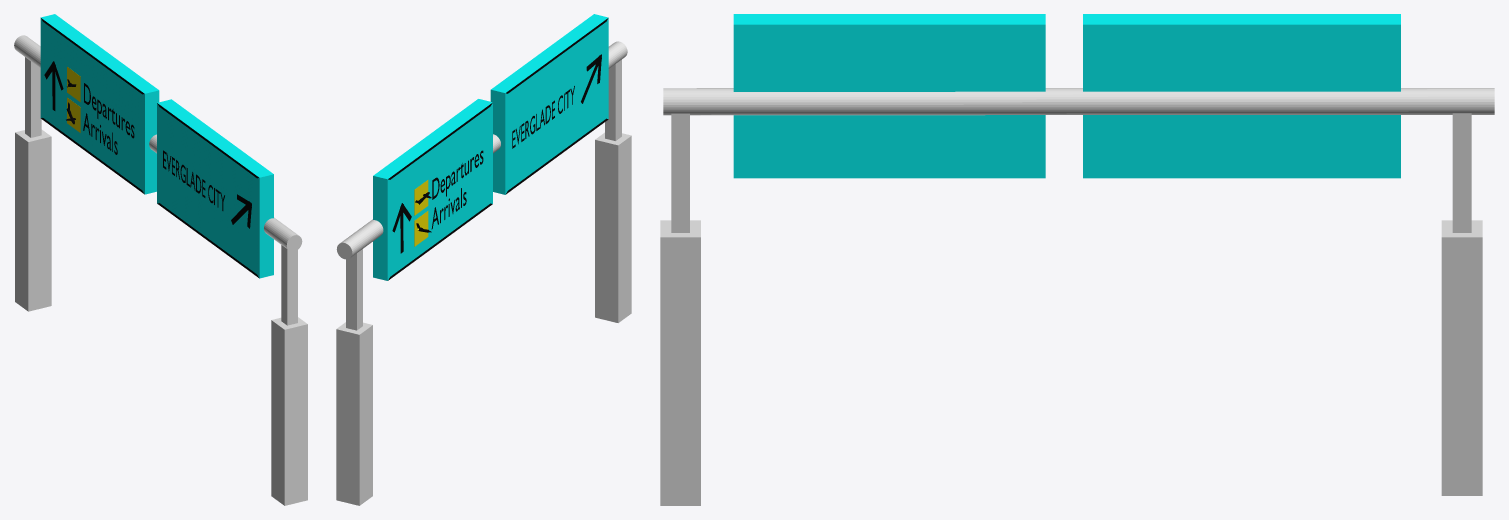
Rendered from ECIA_sign_6.fbx.
The picture shows the model from 3 angles, left to right: view 1: azimuth 30°, elevation 25°; view 2: azimuth 150°, elevation 25°; view 3: azimuth 270°, elevation 25°; orthographic projection. The views are drawn at different scales.
Visible parts, largest first — view 1: Cube.004, Cube.001, Cube.002, Cube, Cylinder, Text.001, Text.006, Cube.003; view 2: Cube.004, Cube.001, Cube.002, Cube, Cylinder, Text.001, Text.006, Cube.006, Cube.003; view 3: Cube.001, Cube.004, Cylinder, Cube.002, Cube.
Part boxes in pixels (<box>): Cube.004: <box>157,99,273,278</box>; Cube.001: <box>40,14,159,194</box>; Cube.002: <box>271,245,307,505</box>; Cube: <box>15,57,51,311</box>; Cylinder: <box>14,35,302,251</box>; Text.001: <box>83,83,134,154</box>; Text.006: <box>163,150,224,210</box>; Cube.003: <box>67,67,80,101</box>; Cube.004: <box>490,14,608,194</box>; Cube.001: <box>373,99,492,280</box>; Cube.002: <box>595,59,631,322</box>; Cube: <box>336,249,372,505</box>; Cylinder: <box>336,41,627,259</box>; Text.001: <box>431,150,483,229</box>; Text.006: <box>512,86,574,148</box>; Cube.006: <box>414,211,428,246</box>; Cube.003: <box>414,180,428,215</box>; Cube.001: <box>1083,14,1400,178</box>; Cube.004: <box>733,14,1045,178</box>; Cylinder: <box>663,88,1494,115</box>; Cube.002: <box>660,113,700,505</box>; Cube: <box>1441,113,1482,495</box>.
Bounding box in the file's own units: 8.66 × 76.97 × 123.
